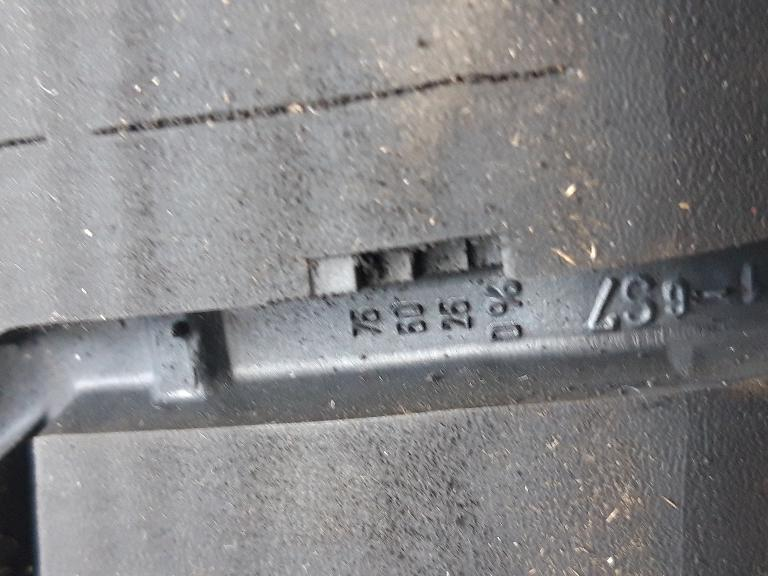temoin:75: (299, 223, 525, 310)
